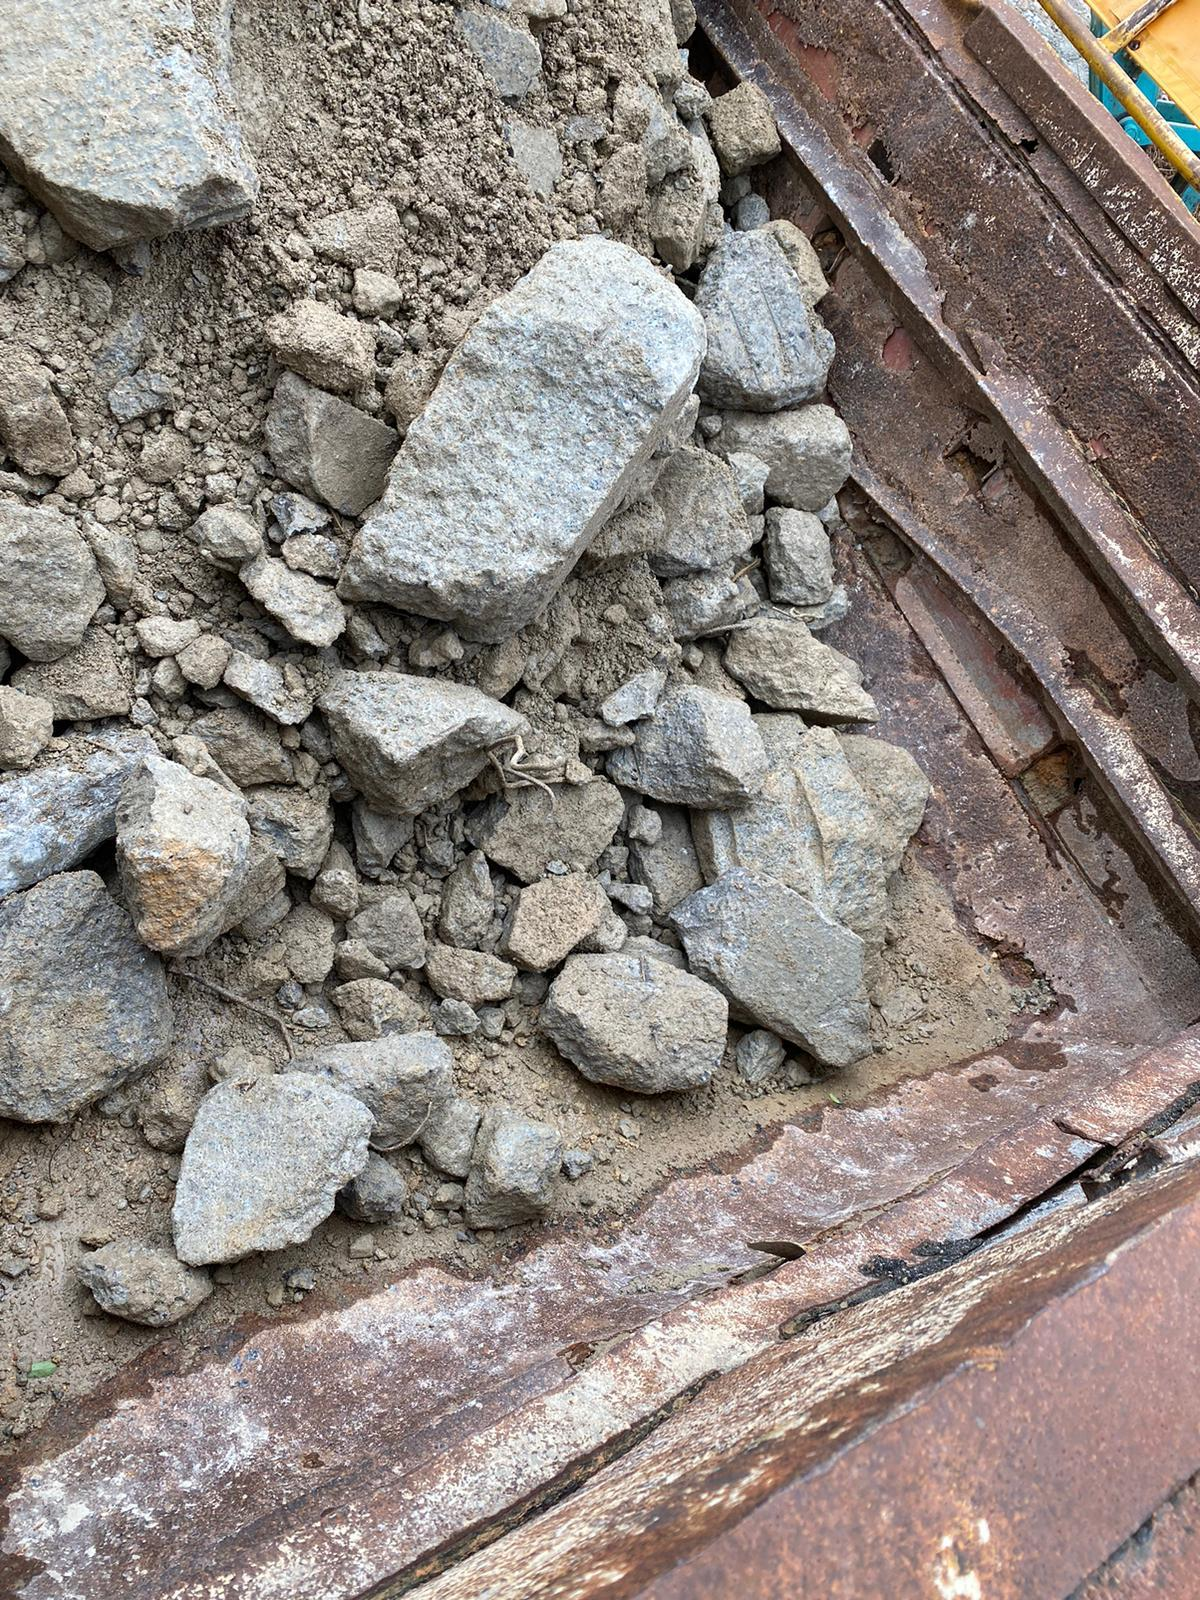dry: (3, 0, 1022, 1420)
